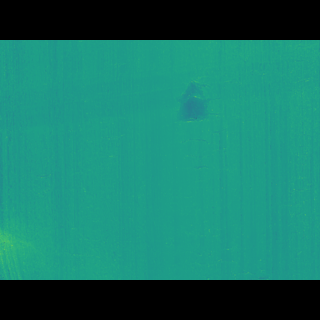Loch: (168, 98, 228, 138)
